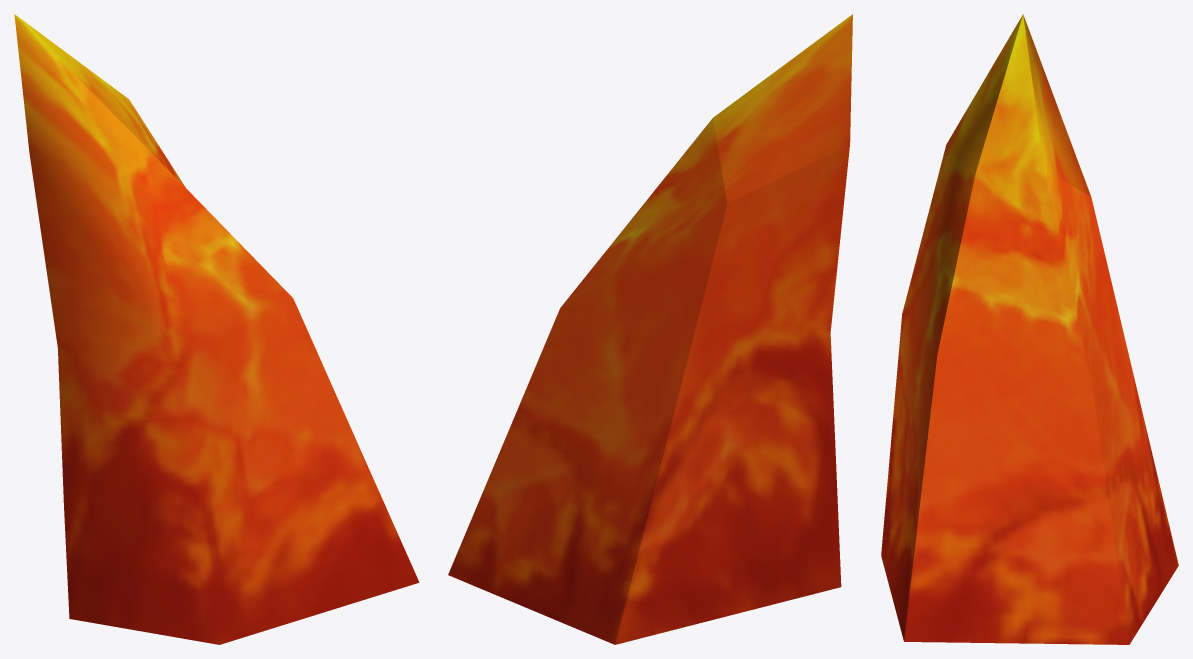
Rendered from shitou02.FBX.
The picture shows the model from 3 angles, left to right: view 1: azimuth 30°, elevation 25°; view 2: azimuth 150°, elevation 25°; view 3: azimuth 270°, elevation 25°; orthographic projection. The views are drawn at different scales.
Parts seen in each view (by area): view 1: shitou002; view 2: shitou002; view 3: shitou002.
Boxes of the visible parts, <box> form: shitou002: <box>14,14,419,644</box>; shitou002: <box>448,14,852,644</box>; shitou002: <box>881,14,1178,644</box>.
Bounding box in the file's own units: 225 × 376 × 206.
